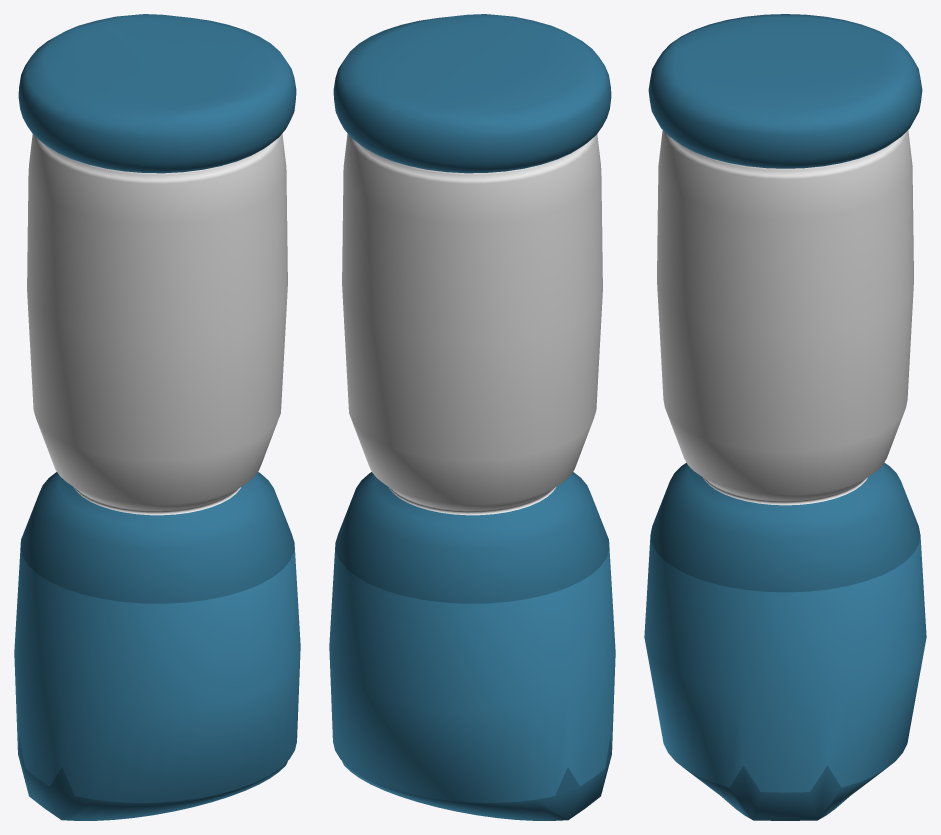
Rendered from Squeezer.fbx.
3 views of the same model, side by side, from view 1: azimuth 30°, elevation 25°; view 2: azimuth 150°, elevation 25°; view 3: azimuth 270°, elevation 25° (orthographic).
Parts seen in each view (by area): view 1: pCylinder1, pCylinder2; view 2: pCylinder1, pCylinder2; view 3: pCylinder1, pCylinder2.
Part boxes in pixels (x1,y1,x2,y2): pCylinder1: [14, 133, 300, 820]; pCylinder2: [18, 14, 296, 173]; pCylinder1: [329, 133, 615, 820]; pCylinder2: [333, 14, 611, 173]; pCylinder1: [644, 130, 926, 820]; pCylinder2: [648, 14, 922, 168].
Bounding box in the file's own units: 9.88 × 27.26 × 9.88.
